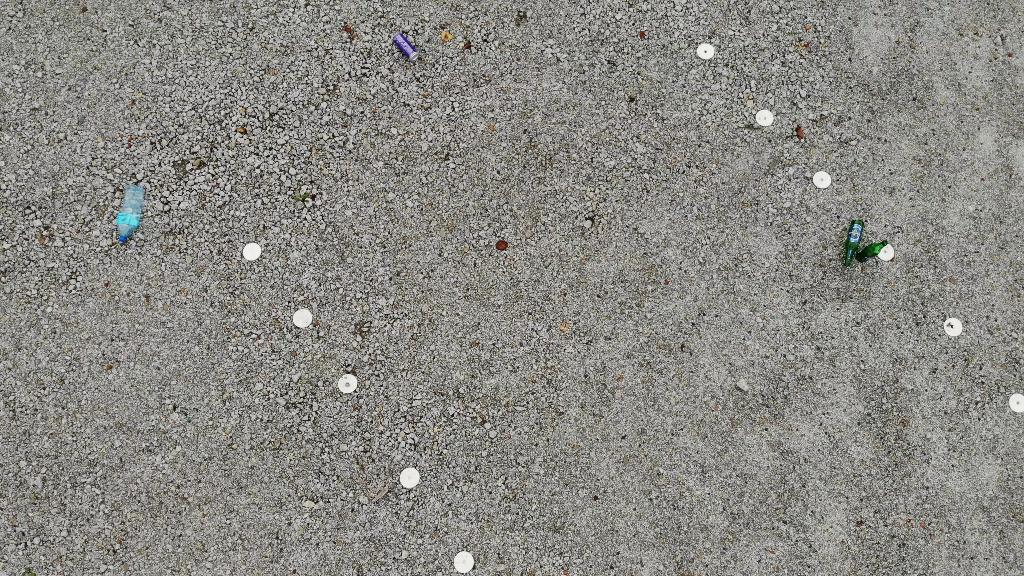garbage: (113, 181, 147, 247), (838, 218, 866, 270), (389, 31, 422, 65)
